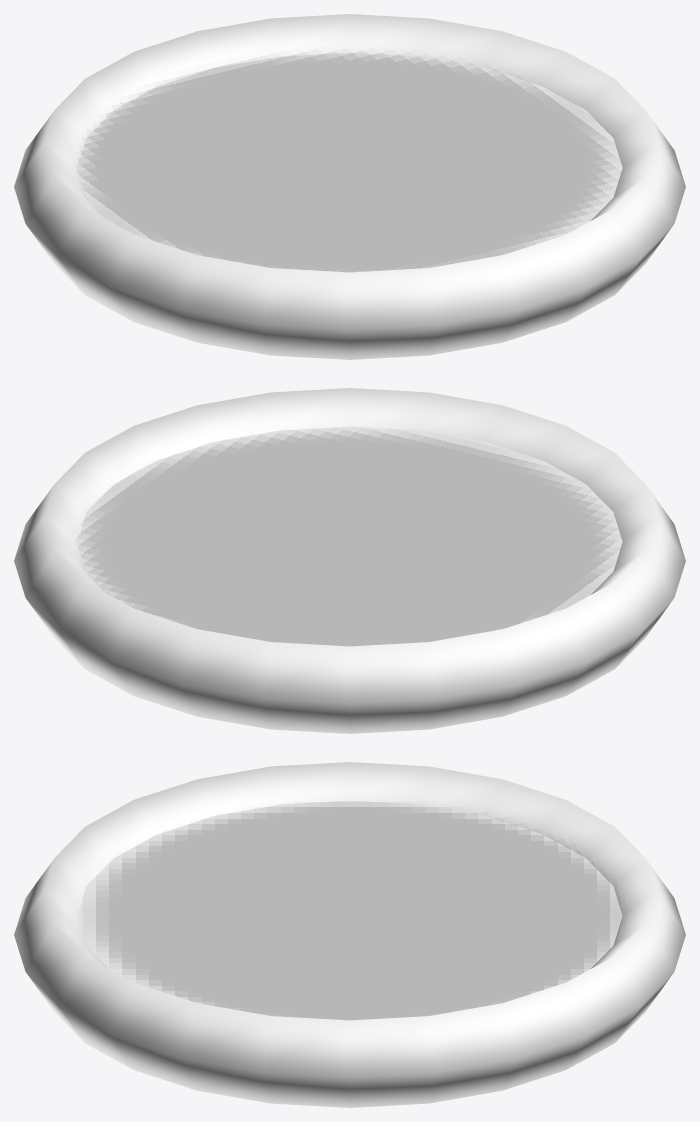
Rendered from coin.FBX.
The picture shows the model from 3 angles, top to bottom: view 1: azimuth 30°, elevation 25°; view 2: azimuth 150°, elevation 25°; view 3: azimuth 270°, elevation 25°; orthographic projection.
Visible parts, largest first — view 1: coin; view 2: coin; view 3: coin.
Boxes of the visible parts, x1,y1,x2,y2 form: coin: (14,14,685,359); coin: (14,388,685,733); coin: (14,762,685,1107).
Size of the model in its own units: 33.12 by 4.76 by 33.12.
Materials: 1 (1 with a texture image).
